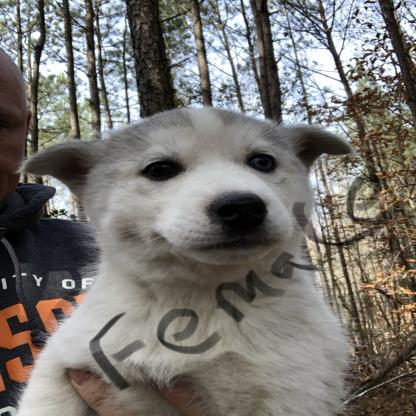husky: (9, 110, 348, 416)
